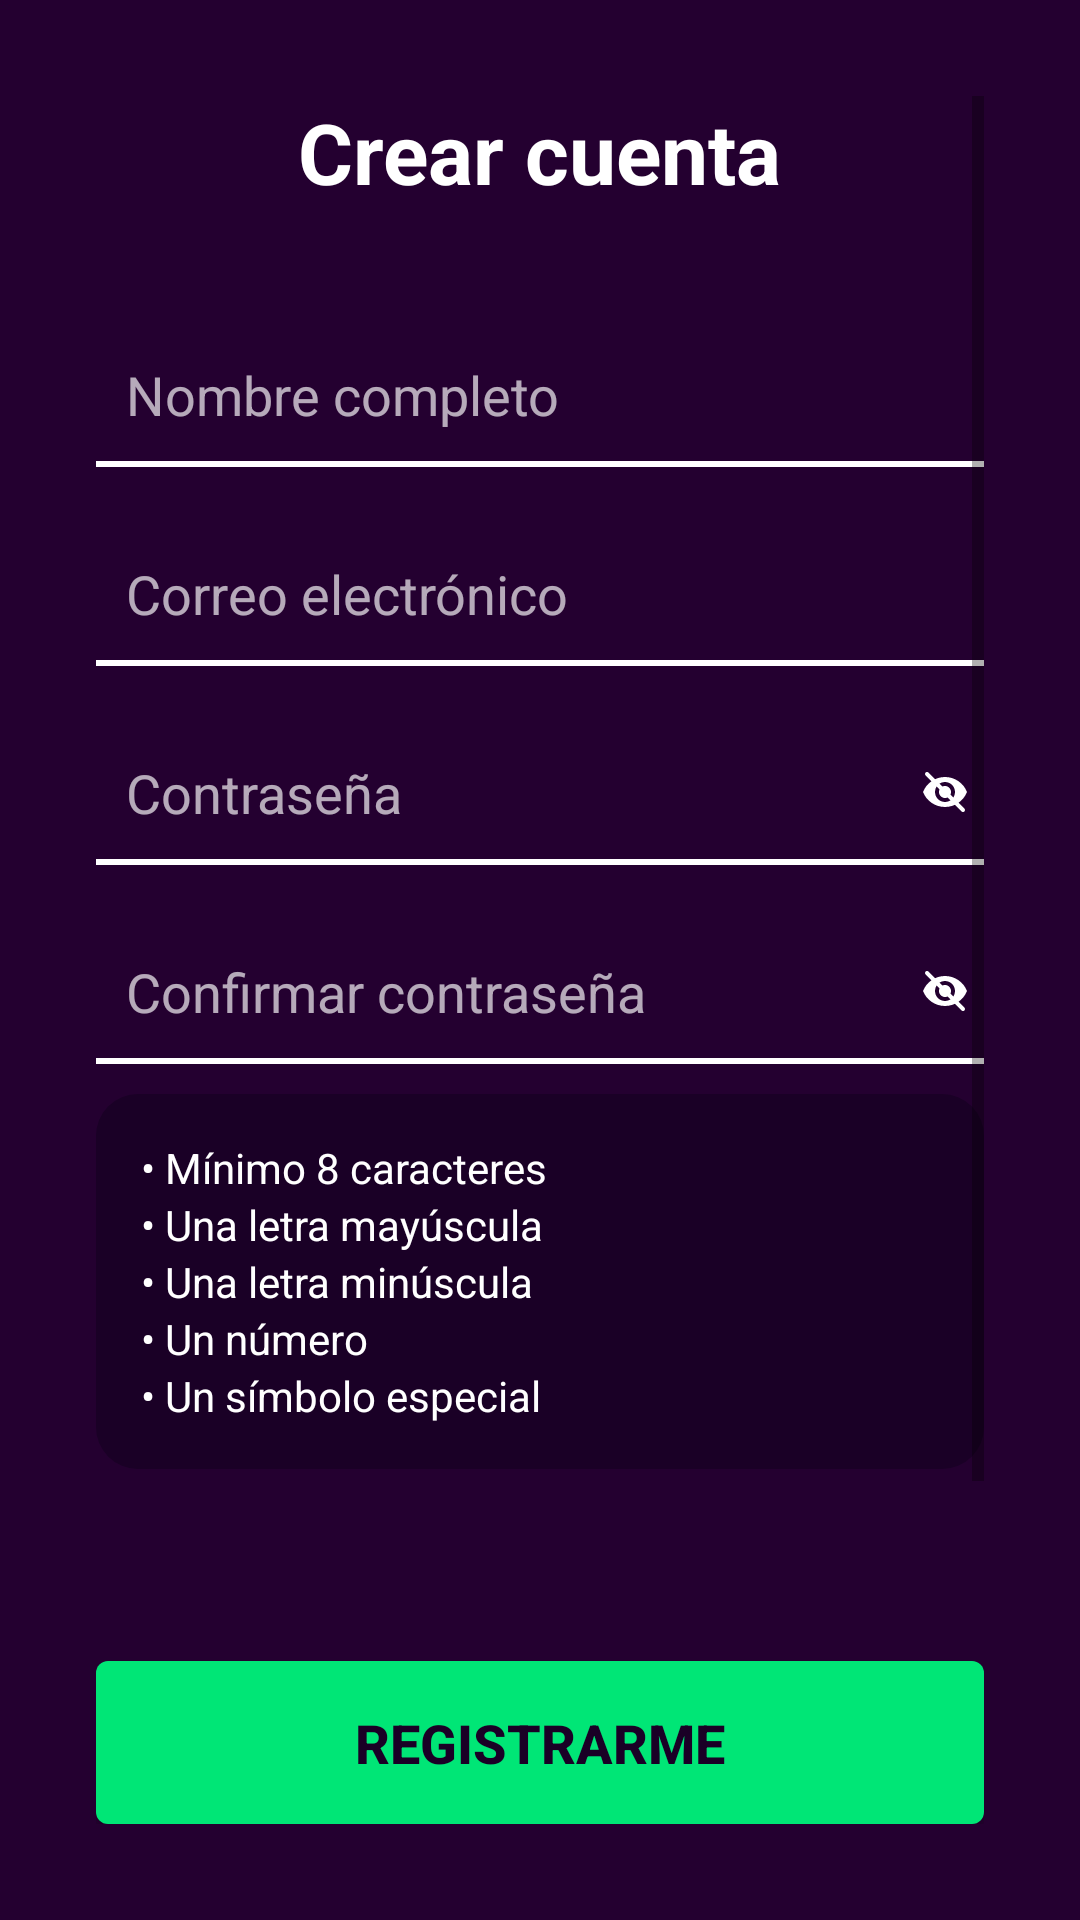

Screen size 1080 × 1920. Icon name, then its center in pixels as point (x, y):
eye closed: point (945, 792), point (945, 991)
